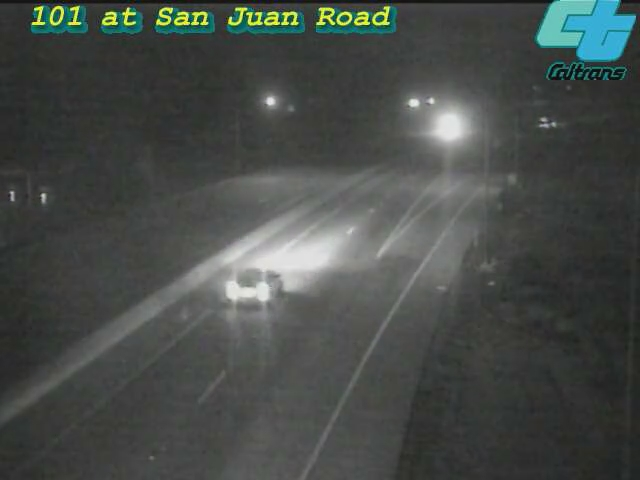vehicle: (199, 254, 279, 334), (419, 104, 469, 154), (524, 97, 574, 147)
